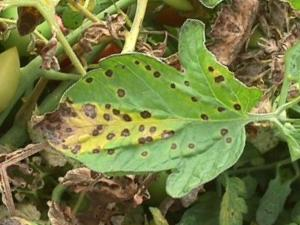Tomato Septoria leaf spot: (17, 0, 300, 225)
